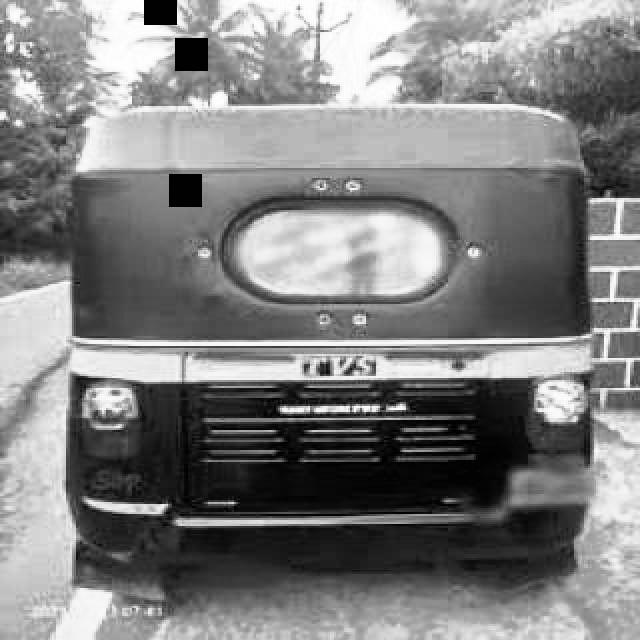Auto-Rickshaw: (68, 96, 604, 588)
